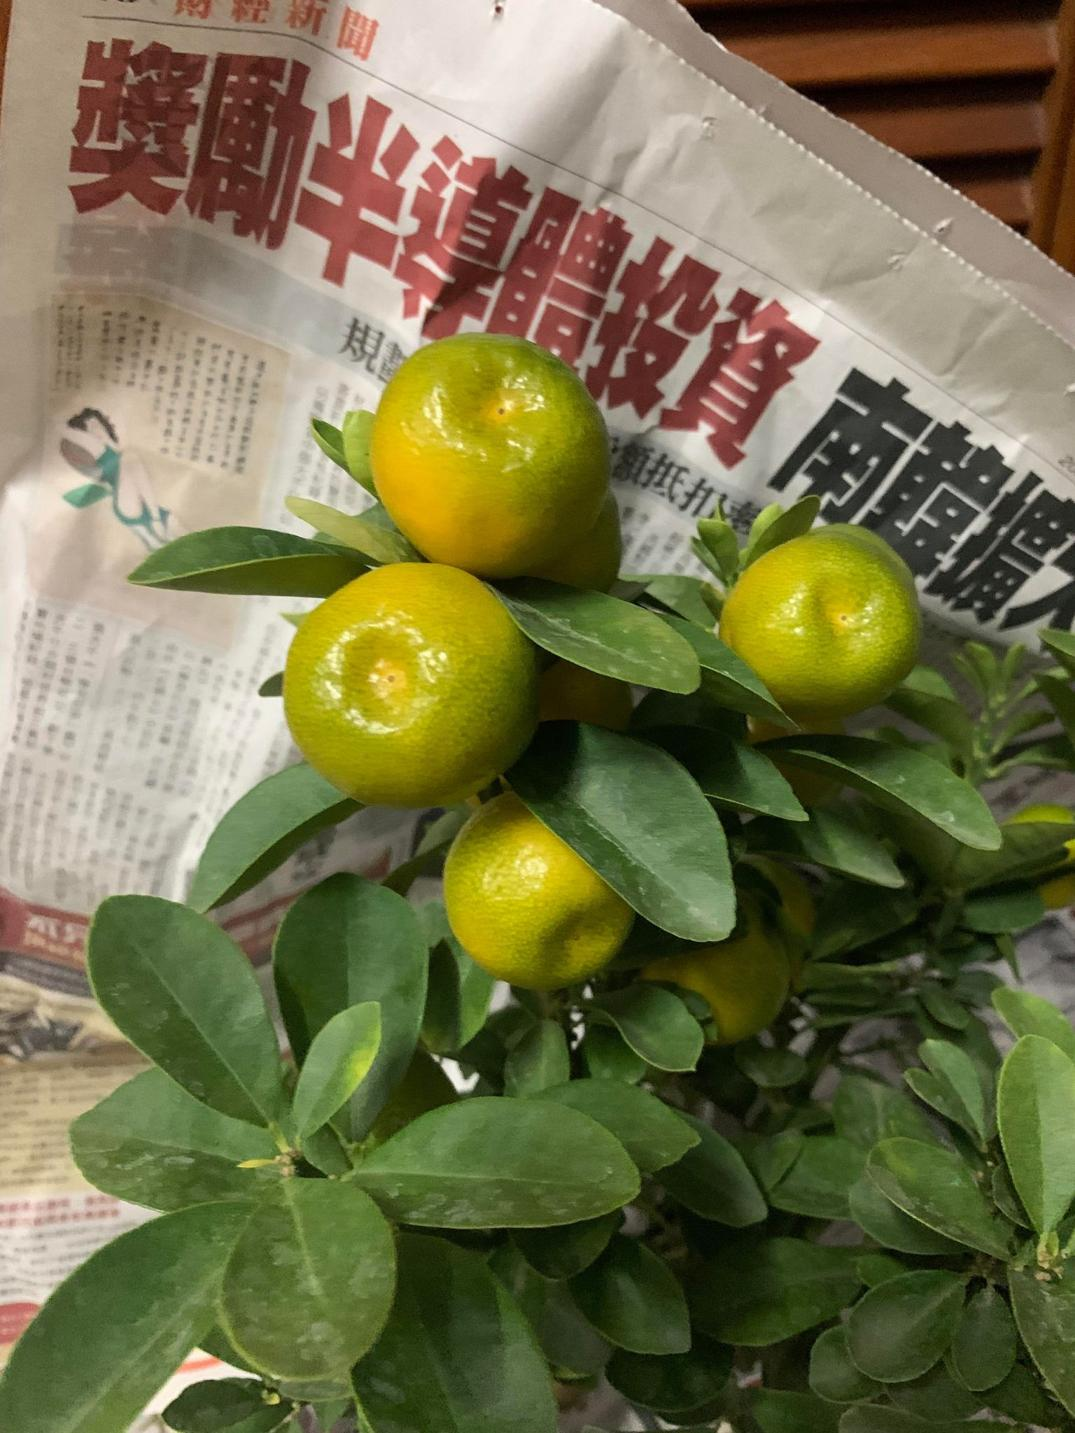Kumquat: (265, 557, 542, 812), (367, 327, 617, 579), (435, 789, 633, 984), (722, 527, 923, 716)
